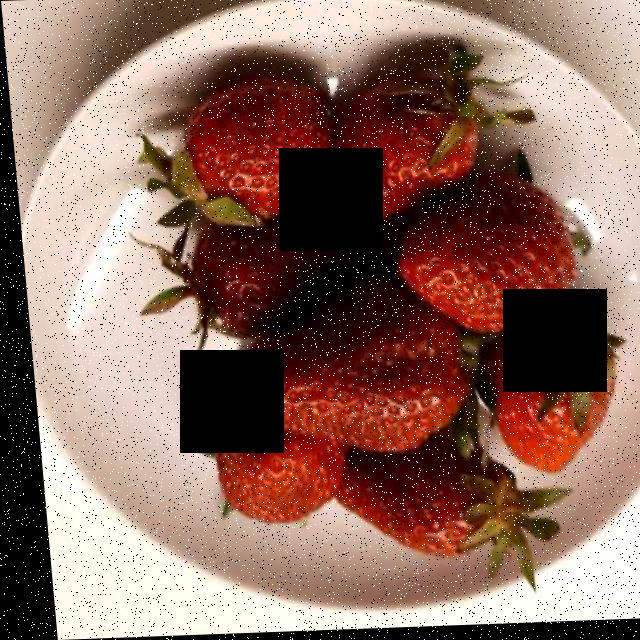strawberries: (141, 66, 594, 569)
